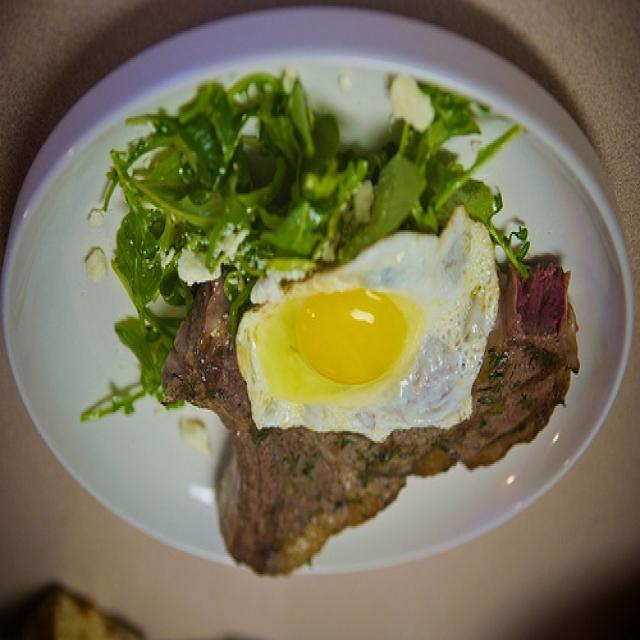Egg: (238, 256, 500, 436)
